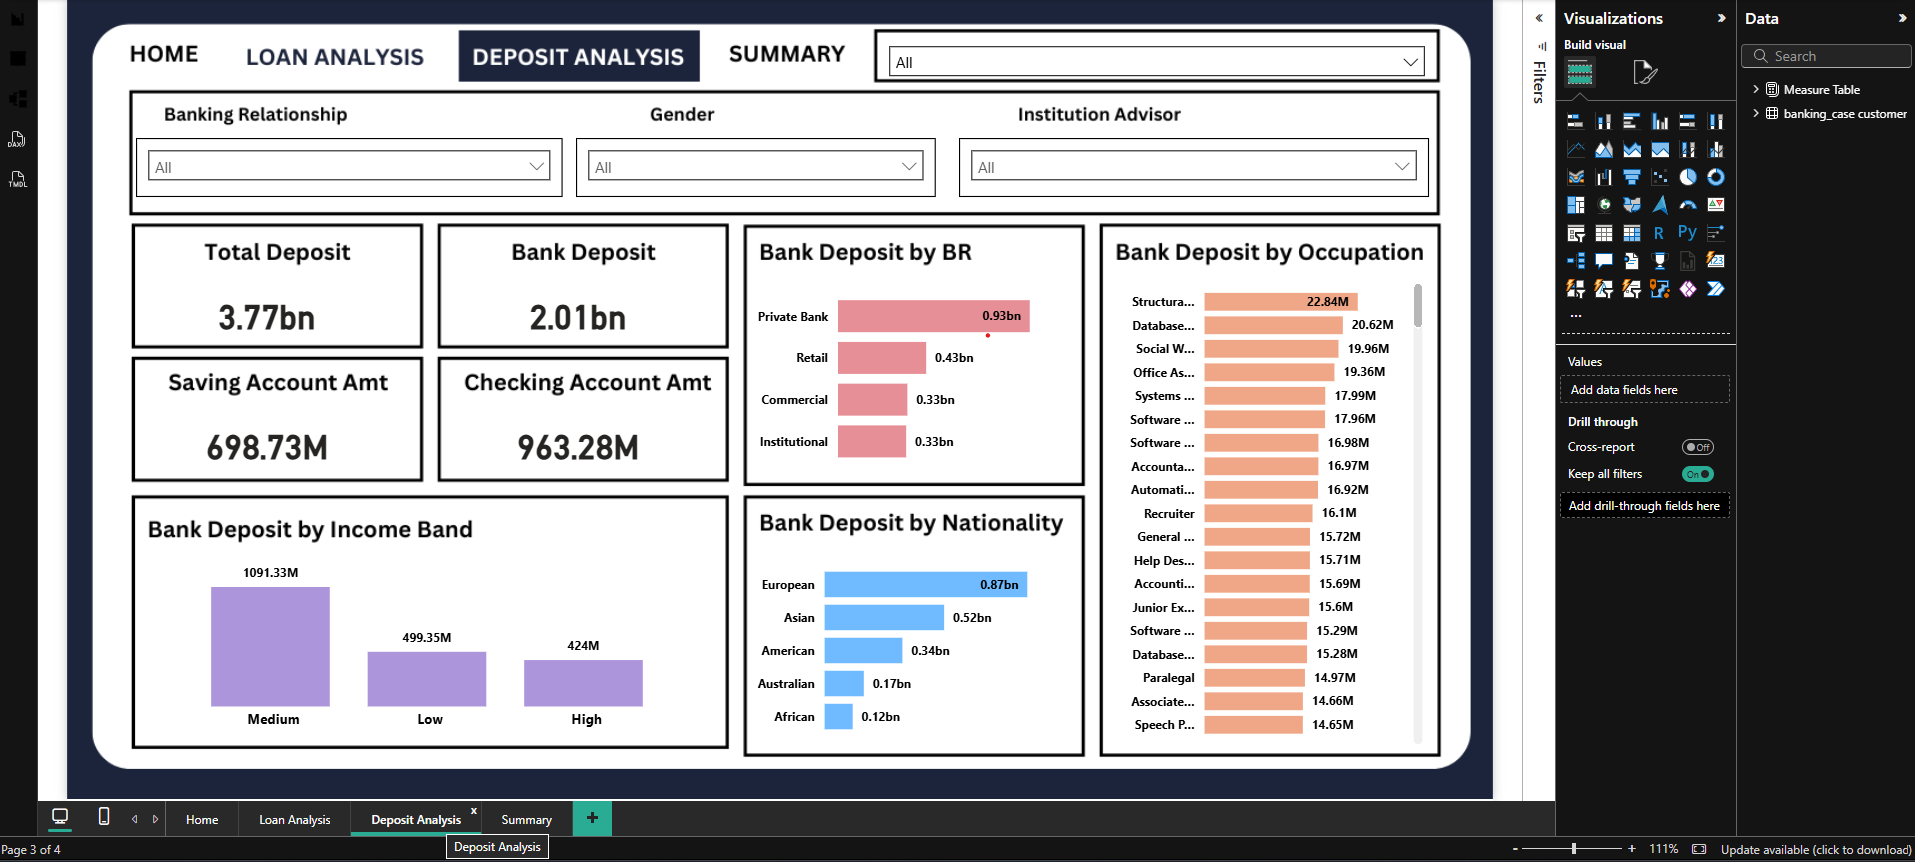

Layout of this report page (visuals, bound fields, positions):
{"tool":"powerbi","page":{"name":"Deposit Analysis ","canvas":[1280,720],"ordinal":2},"visuals":[{"type":"actionButton","box":[350.8,29,216.7,46.2],"z":0},{"type":"actionButton","box":[592.9,29,109.7,46.2],"z":1},{"type":"actionButton","box":[160.5,29,159.5,46.2],"z":2},{"type":"actionButton","box":[49.9,29,73.4,46.2],"z":3},{"type":"slicer","fields":{"Values":["banking_case customer.Year Of Joining"]},"box":[728.1,32.3,500.9,38.6],"z":4},{"type":"slicer","fields":{"Values":["banking_case customer.BRId"]},"box":[61.6,125.1,383.5,52.6],"z":5},{"type":"slicer","fields":{"Values":["banking_case customer.GenderId"]},"box":[456.9,125.1,322.7,52.6],"z":6},{"type":"slicer","fields":{"Values":["banking_case customer.IAId"]},"box":[800.5,125.1,421.5,52.6],"z":7},{"type":"cardVisual","fields":{"Data":["Measure Table.Total Deposit"]},"box":[96.1,242.9,167.7,61.6],"z":8},{"type":"cardVisual","fields":{"Data":["Sum(banking_case customer.Bank Deposits)"]},"box":[375.3,242.9,167.7,61.6],"z":9},{"type":"cardVisual","fields":{"Data":["Sum(banking_case customer.Checking Accounts)"]},"box":[375.3,359.9,167.7,61.6],"z":10},{"type":"cardVisual","fields":{"Data":["Sum(banking_case customer.Saving Accounts)"]},"box":[96.1,359.9,167.7,61.6],"z":11},{"type":"clusteredColumnChart","fields":{"Category":["banking_case customer.Income Band"],"Y":["Sum(banking_case customer.Bank Deposits)"]},"box":[68,489.5,515.8,175.9],"z":12},{"type":"clusteredBarChart","fields":{"Category":["banking_case customer.BRId"],"Y":["Sum(banking_case customer.Bank Deposits)"]},"box":[612.8,242,293.7,190.4],"z":13},{"type":"clusteredBarChart","fields":{"Category":["banking_case customer.Nationality"],"Y":["Sum(banking_case customer.Bank Deposits)"]},"box":[612.8,489.5,293.7,184],"z":14},{"type":"clusteredBarChart","fields":{"Category":["banking_case customer.Occupation"],"Y":["Sum(banking_case customer.Bank Deposits)"]},"box":[937.3,242,284.6,431.5],"z":15}]}

Visuals, with their boxes on the page's 1280x720 design canvas (x1, y1, x2, y2). These are canvas units, not pixel positions in the 1915x862 screenshot, which may show the page scaled, cropped or inside an application window:
actionButton: 351,29,568,75
actionButton: 593,29,703,75
actionButton: 160,29,320,75
actionButton: 50,29,123,75
slicer - banking_case customer.Year Of Joining: 728,32,1229,71
slicer - banking_case customer.BRId: 62,125,445,178
slicer - banking_case customer.GenderId: 457,125,780,178
slicer - banking_case customer.IAId: 800,125,1222,178
cardVisual - Measure Table.Total Deposit: 96,243,264,304
cardVisual - Sum(banking_case customer.Bank Deposits): 375,243,543,304
cardVisual - Sum(banking_case customer.Checking Accounts): 375,360,543,422
cardVisual - Sum(banking_case customer.Saving Accounts): 96,360,264,422
clusteredColumnChart - banking_case customer.Income Band x Sum(banking_case customer.Bank Deposits): 68,490,584,665
clusteredBarChart - banking_case customer.BRId x Sum(banking_case customer.Bank Deposits): 613,242,906,432
clusteredBarChart - banking_case customer.Nationality x Sum(banking_case customer.Bank Deposits): 613,490,906,674
clusteredBarChart - banking_case customer.Occupation x Sum(banking_case customer.Bank Deposits): 937,242,1222,674
